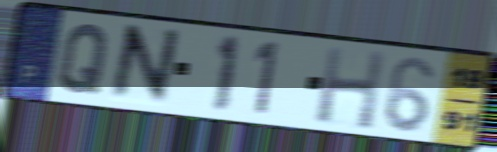1: (209, 32, 242, 114), (250, 39, 281, 117)
6: (381, 53, 437, 136)
H: (313, 44, 389, 133)
N: (104, 22, 184, 107)
Q: (55, 21, 113, 97)
